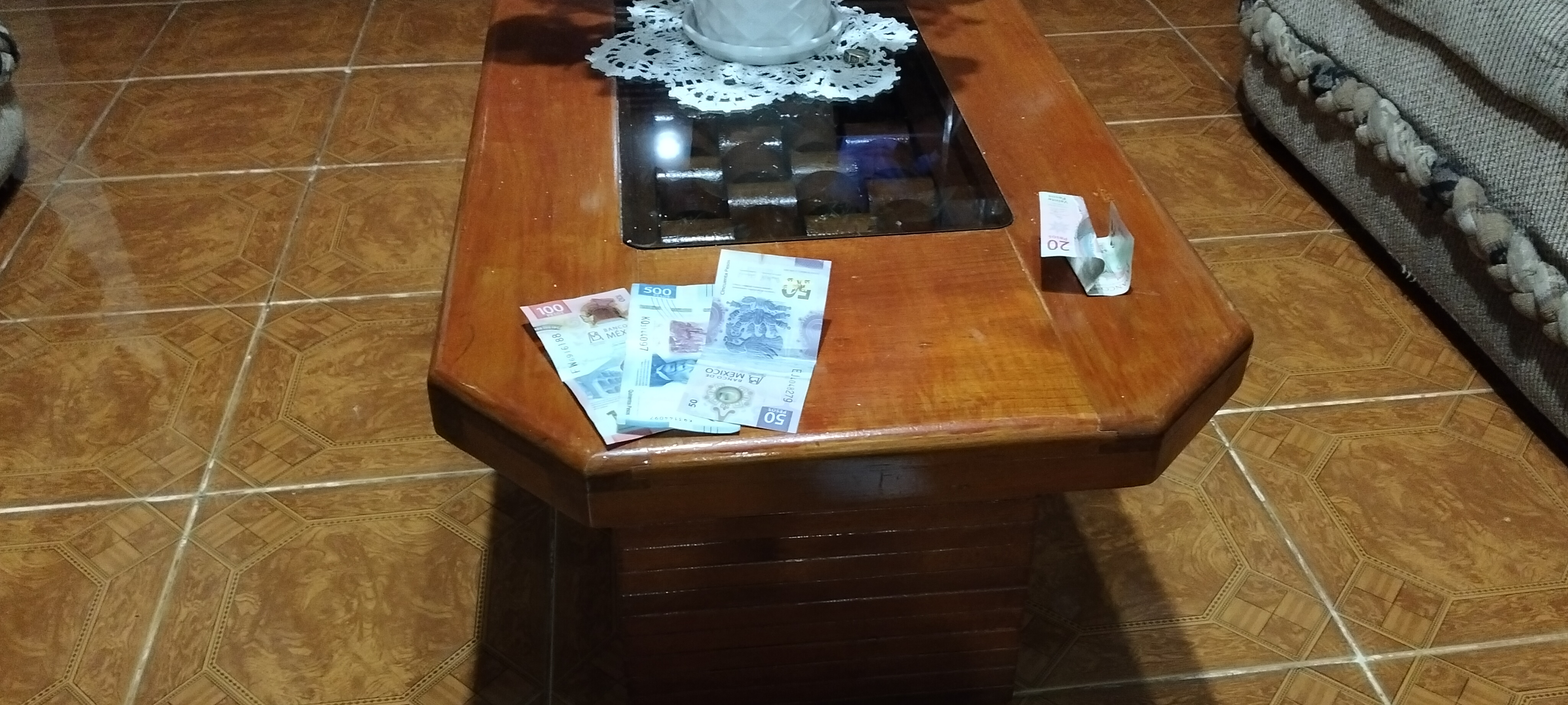billetes: (493, 239, 884, 453)
